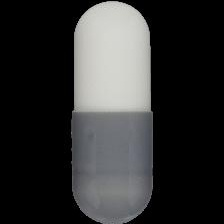61919-275: (0, 0, 224, 224)
